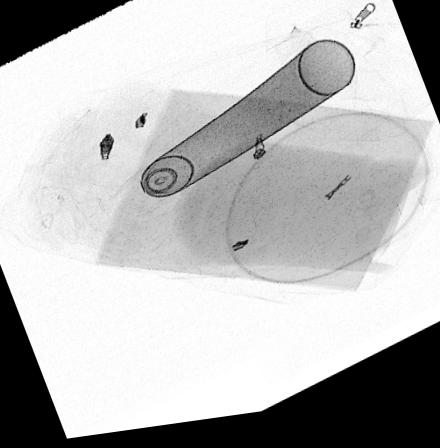Sprayer: (115, 47, 358, 220)
